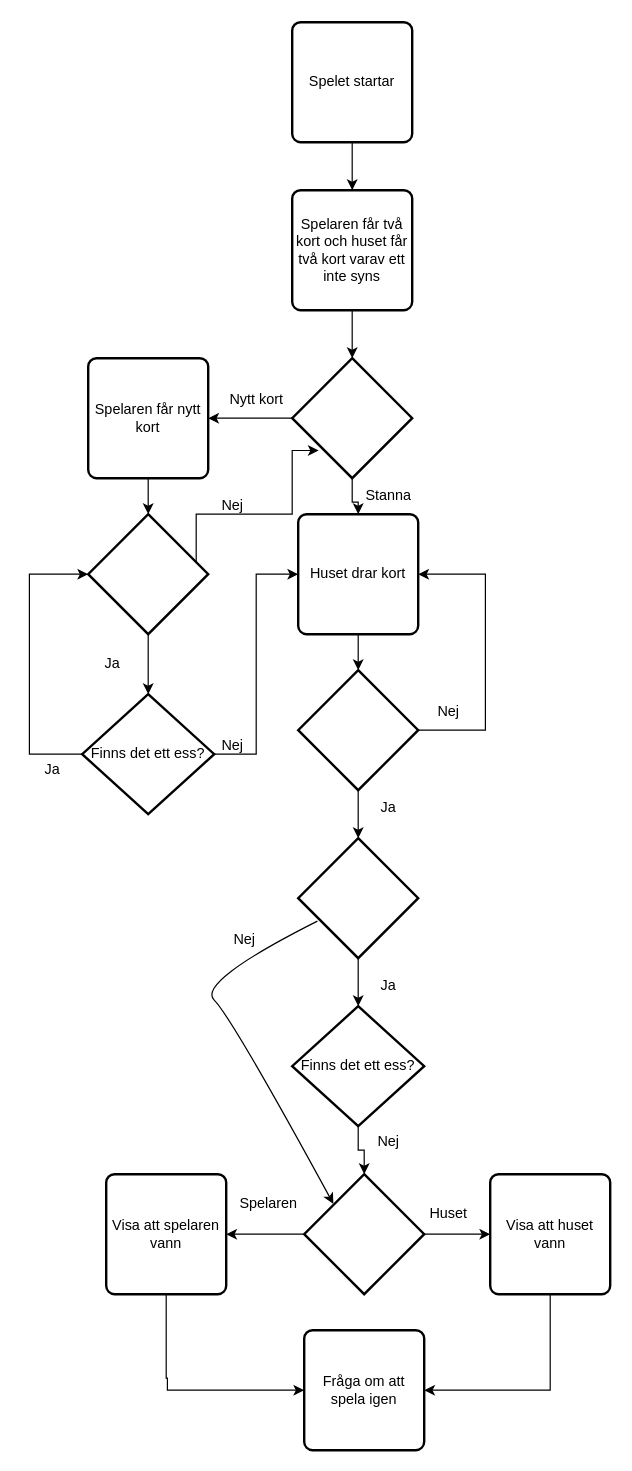
Some shapes in this 632 by 1471 pixel diagram are drawn without their labels. Each missing label, with the centre of its shape:
"Har huset över 17 poäng" goes at point 357,729.
"Har huset över 21 poäng?" goes at point 357,897.
"Har spelaren över 21 poäng?" goes at point 147,573.
"Nytt kort eller stanna?" goes at point 351,417.
"Vann spelaren eller huset?" goes at point 363,1233.
